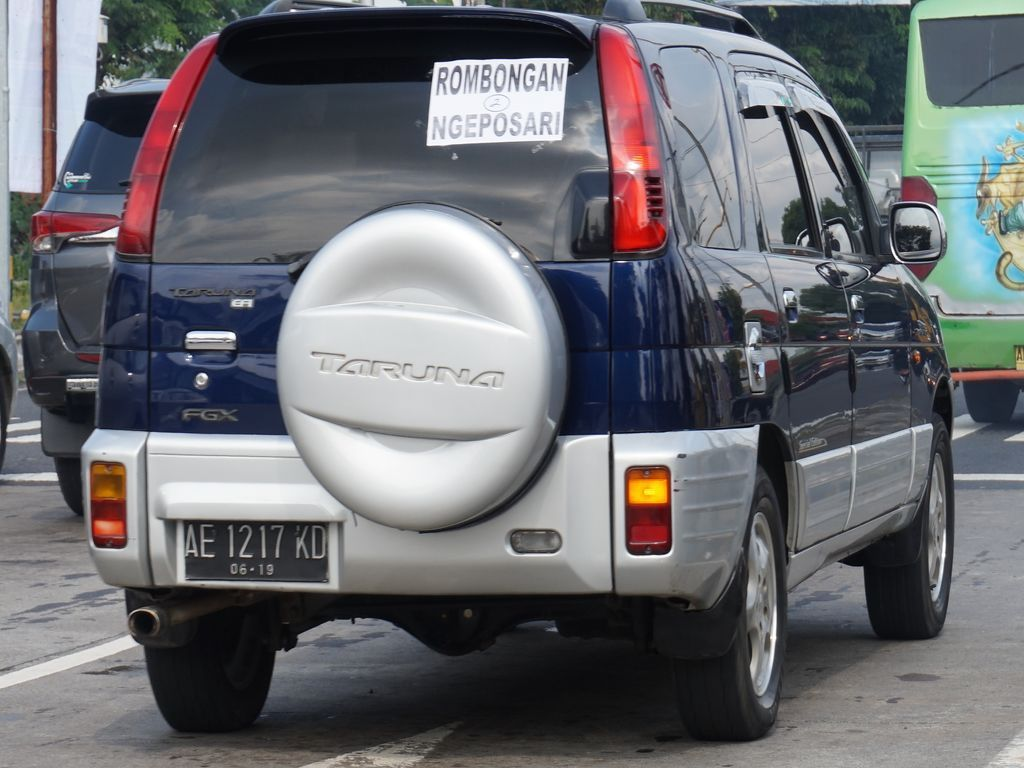plate: (183, 523, 325, 575)
